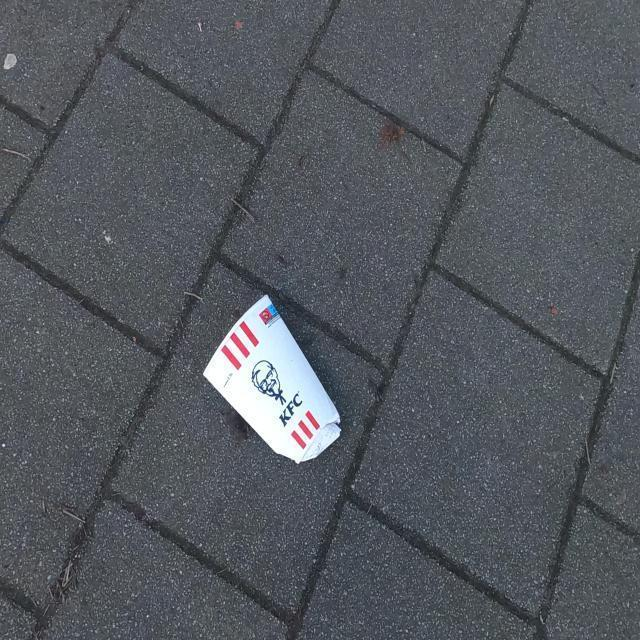Cup: (200, 290, 344, 470)
